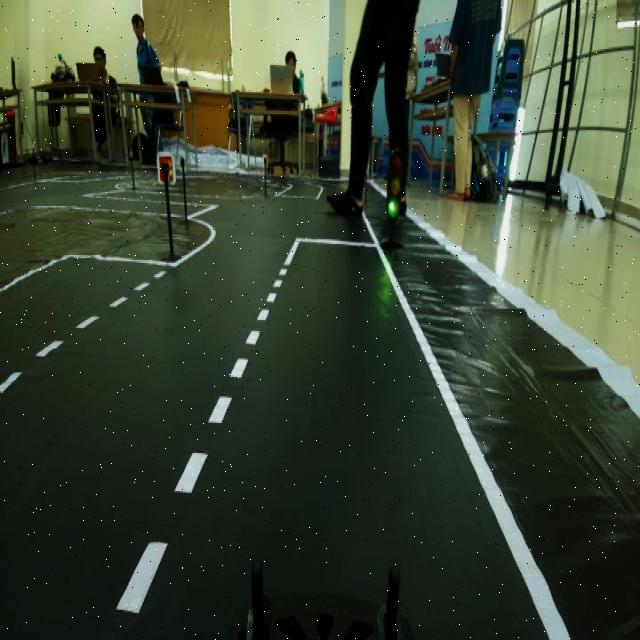trafficlight: (378, 140, 408, 267)
